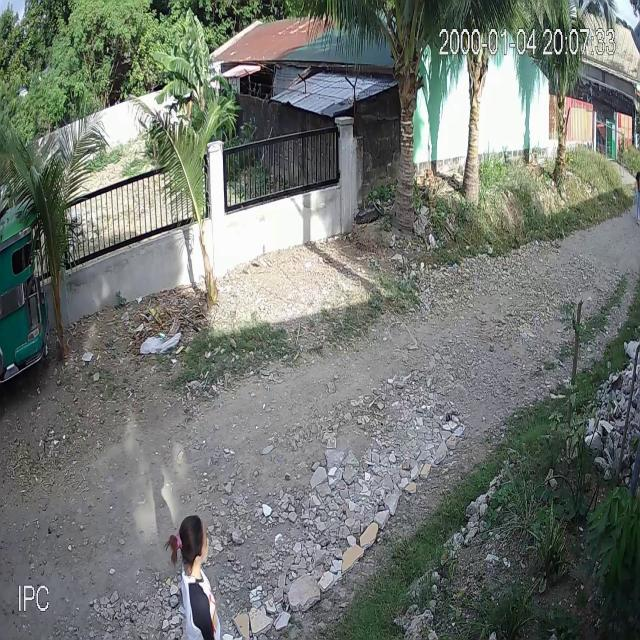standing: (162, 511, 224, 640)
